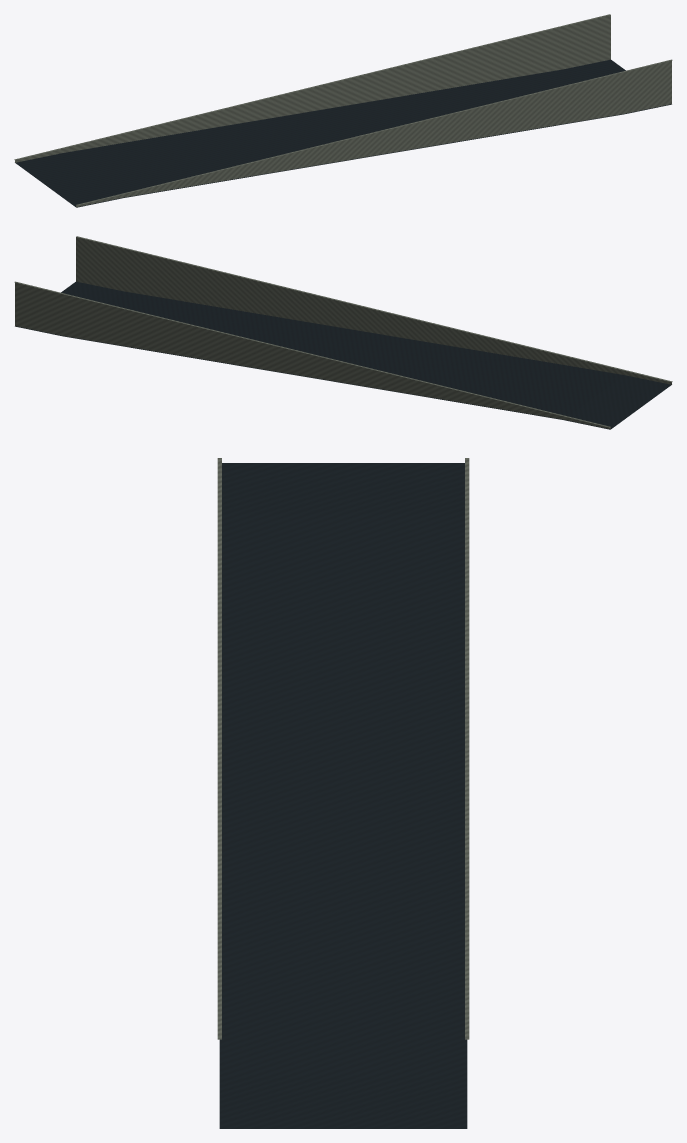
Rendered from underpass_ramp_4lane_80m_ShadowProxy.glb.
The picture shows the model from 3 angles, top to bottom: view 1: azimuth 30°, elevation 25°; view 2: azimuth 150°, elevation 25°; view 3: azimuth 270°, elevation 25°; orthographic projection. The views are drawn at different scales.
Parts seen in each view (by area): view 1: underpass_ramp_4lane_80m__retaining_walls.003, underpass_ramp_4lane_80m__channel.003; view 2: underpass_ramp_4lane_80m__retaining_walls.003, underpass_ramp_4lane_80m__channel.003; view 3: underpass_ramp_4lane_80m__channel.003, underpass_ramp_4lane_80m__retaining_walls.003.
Part boxes in pixels (x1,y1,x2,y2): underpass_ramp_4lane_80m__retaining_walls.003: (14, 14, 672, 207); underpass_ramp_4lane_80m__channel.003: (15, 59, 671, 207); underpass_ramp_4lane_80m__retaining_walls.003: (14, 236, 672, 429); underpass_ramp_4lane_80m__channel.003: (15, 281, 671, 429); underpass_ramp_4lane_80m__channel.003: (219, 463, 467, 1128); underpass_ramp_4lane_80m__retaining_walls.003: (217, 458, 469, 1039).
Size of the model in its own units: 80 by 5.72 by 14.64.
3 materials, 3 textured.
